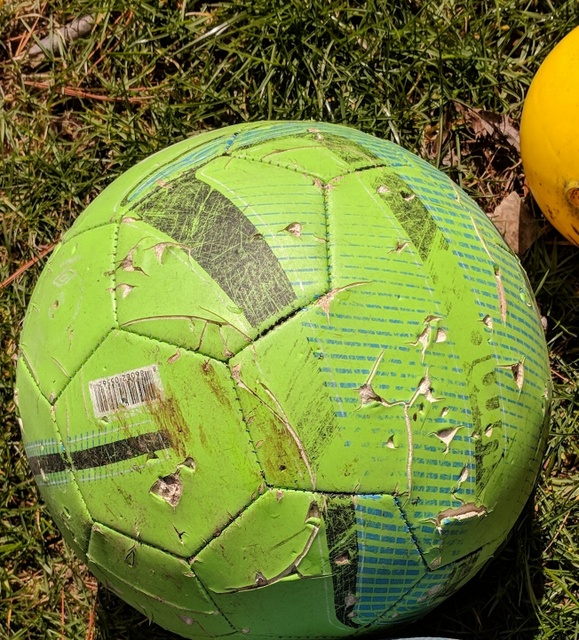ball: (16, 118, 557, 640)
